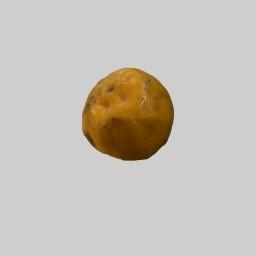Unripe: (82, 68, 175, 158)
